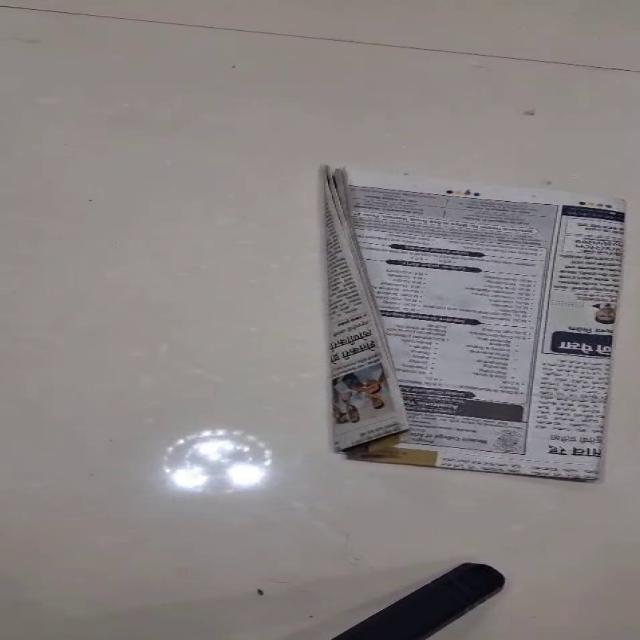paper: (322, 164, 626, 481)
